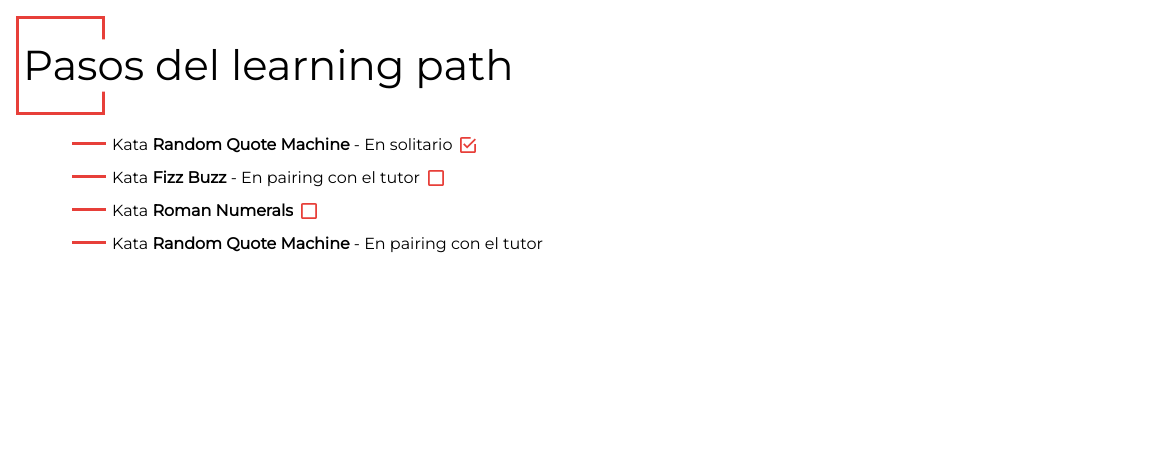
Test: listado de pasos › si una kata no tiene acompañamiento, informa al usuario
The image size is (1165, 462).
Click the button "Kata Roman Numerals" at [199, 211], box 104,200 -> 293,222
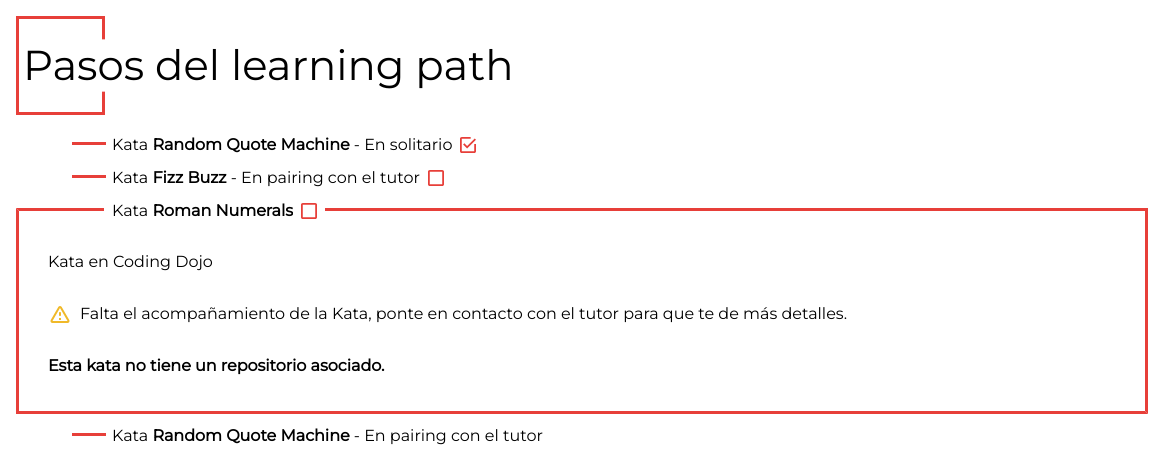
Expected: the text "Falta el acompañamiento de la kata, ponte en contacto con el tutor para que te de más detalles" is shown, 80,304 -> 847,323
